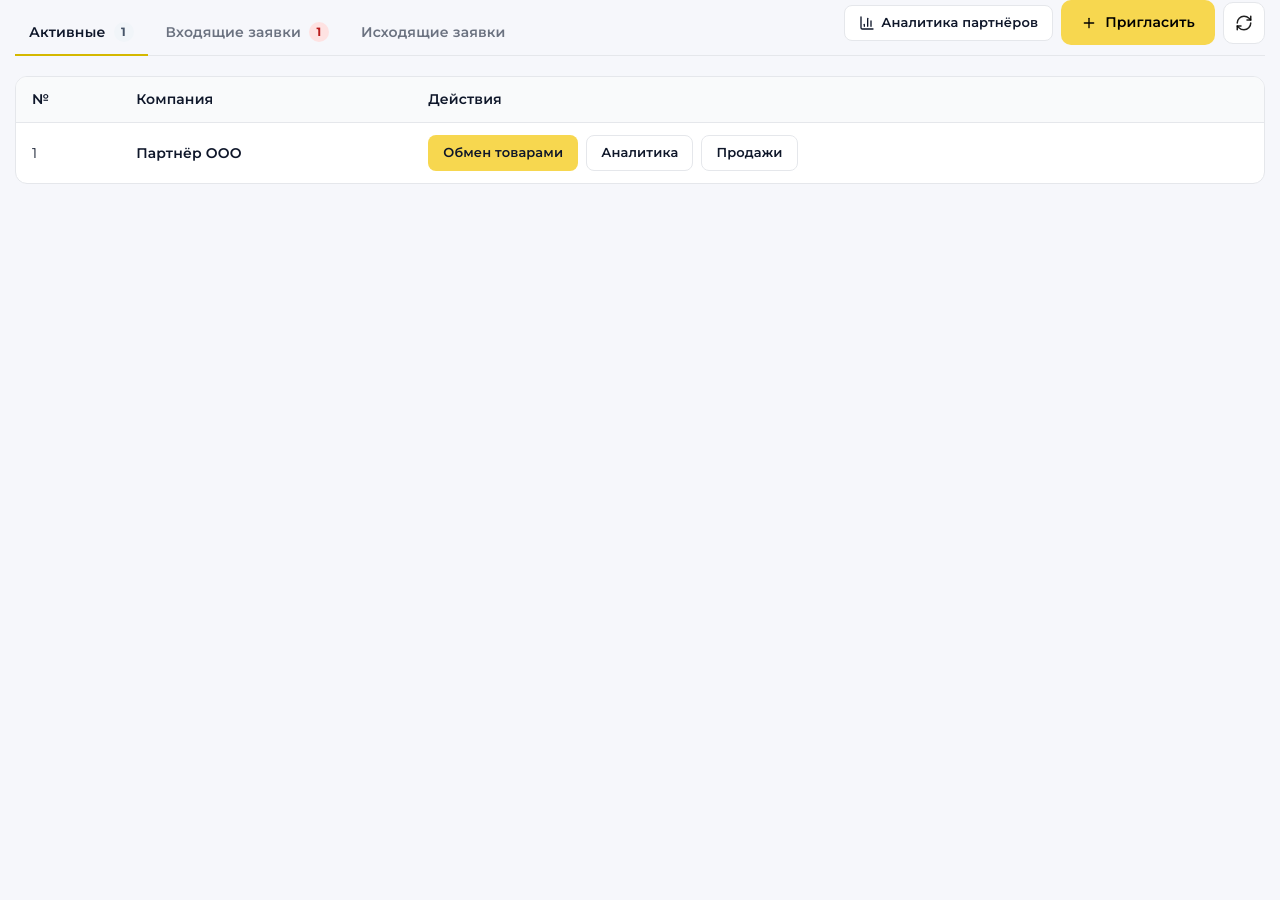
StockPartnershipPanel › приглашение: короткий запрос не ищет
The image size is (1280, 900).
Expected: the text "Партнёр ООО" is shown, [120,122,412,183]
Step 1. Click the button "Пригласить" → point(1138, 22), box [1061,0,1215,45]
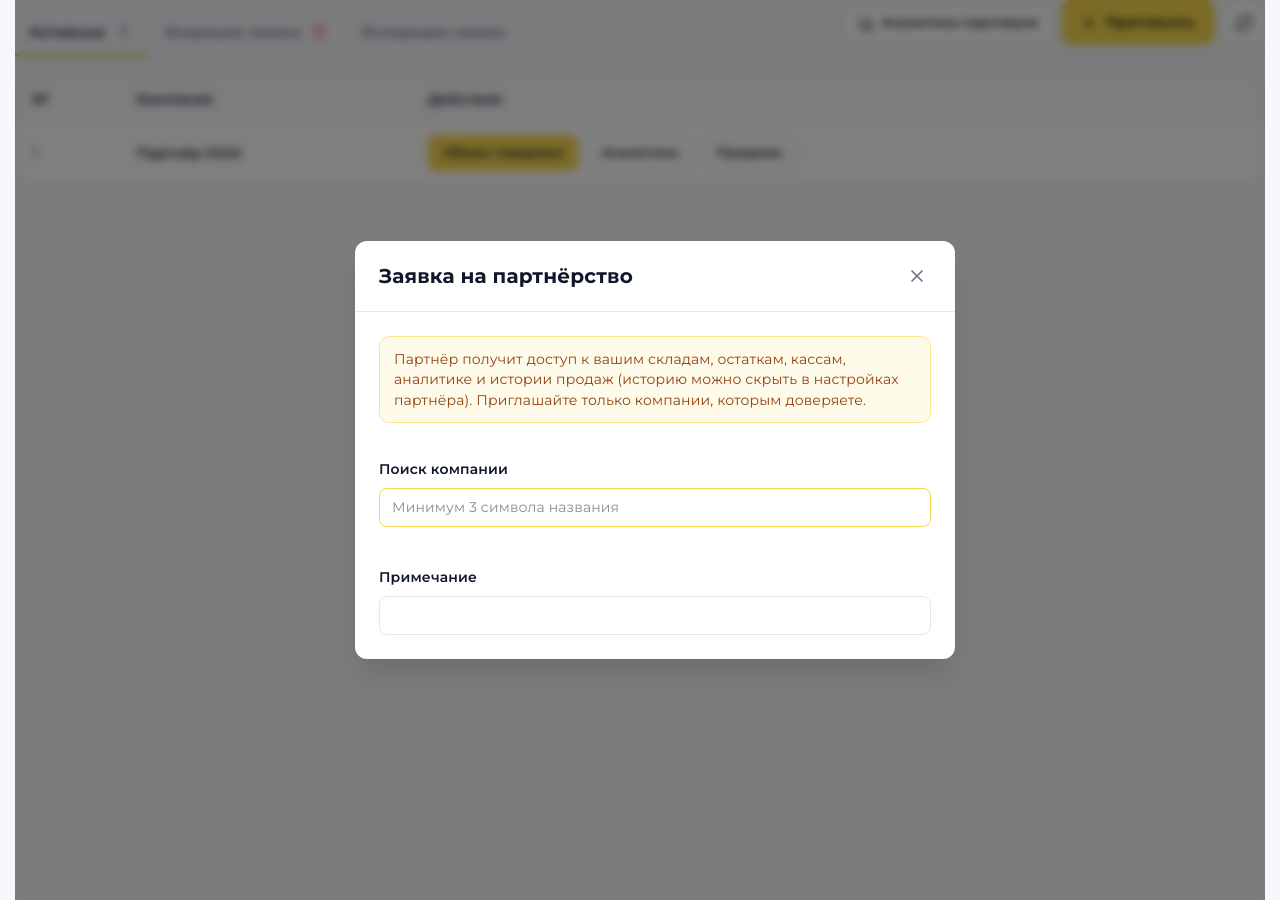
Step 2. Type "ОО" into the field labelled "Поиск компании" → point(655, 507), box [379,488,931,527]
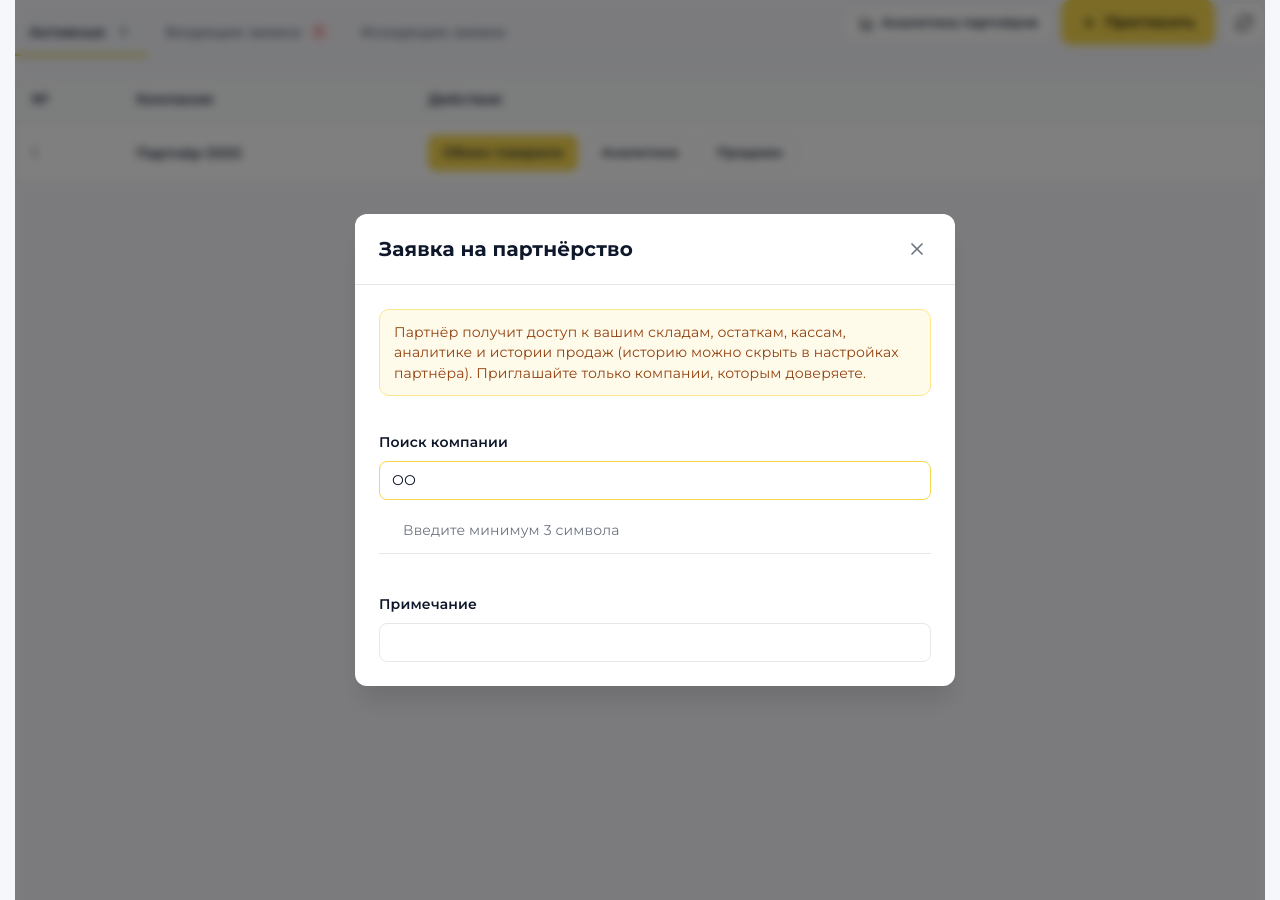
Result: the text "Введите минимум 3 символа" is shown at [379,508,931,554]
